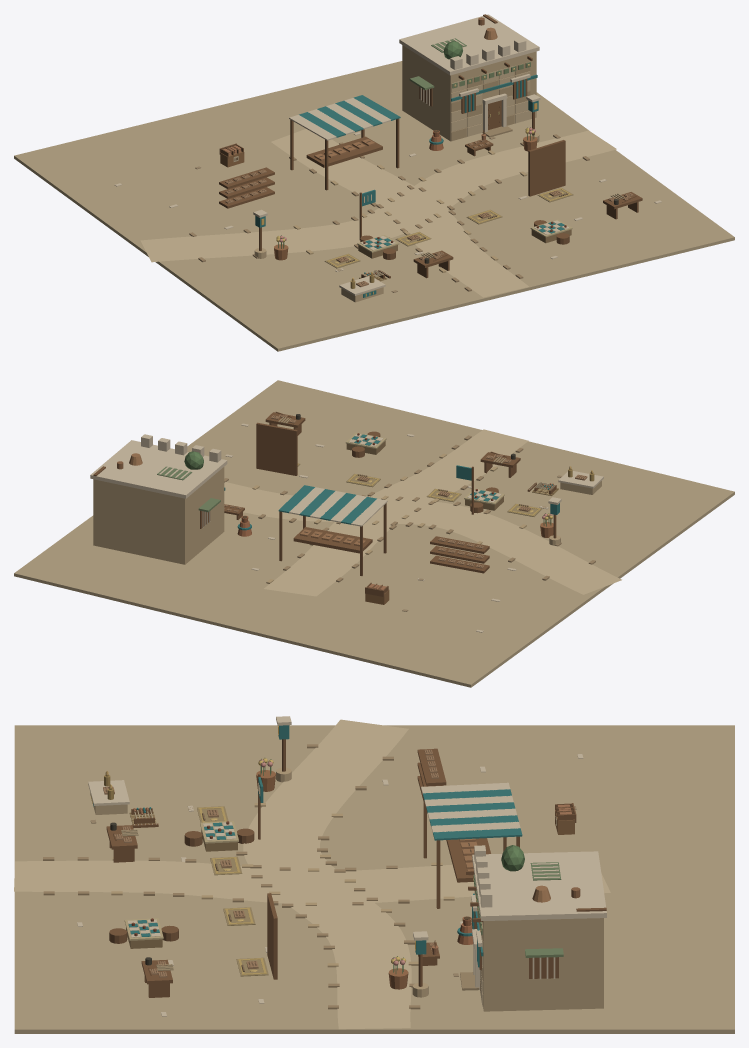
Rendered from city-school.glb.
3 views of the same model, one above another, from view 1: azimuth 30°, elevation 25°; view 2: azimuth 150°, elevation 25°; view 3: azimuth 270°, elevation 25° (orthographic). The views are drawn at different scales.
Parts seen in each view (by area): view 1: city-school; view 2: city-school; view 3: city-school.
Boxes of the visible parts, left/top/right/bottom form: city-school: left=14, top=14, right=734, bottom=351; city-school: left=14, top=380, right=734, bottom=687; city-school: left=14, top=716, right=734, bottom=1033.
Size of the model in its own units: 32.56 by 5.97 by 32.03.
